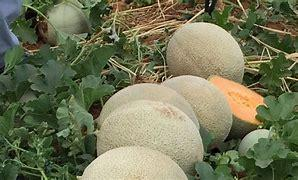Melon Ripe: (97, 100, 204, 170), (167, 22, 245, 86), (207, 74, 269, 131)
